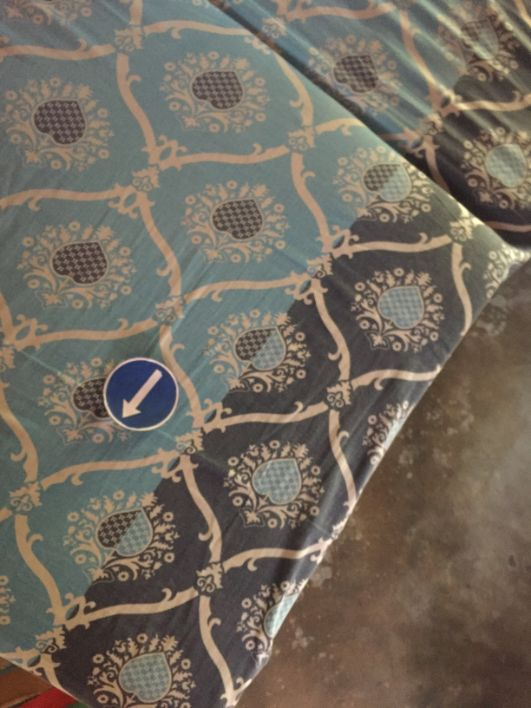go-stright: (102, 356, 175, 429)
